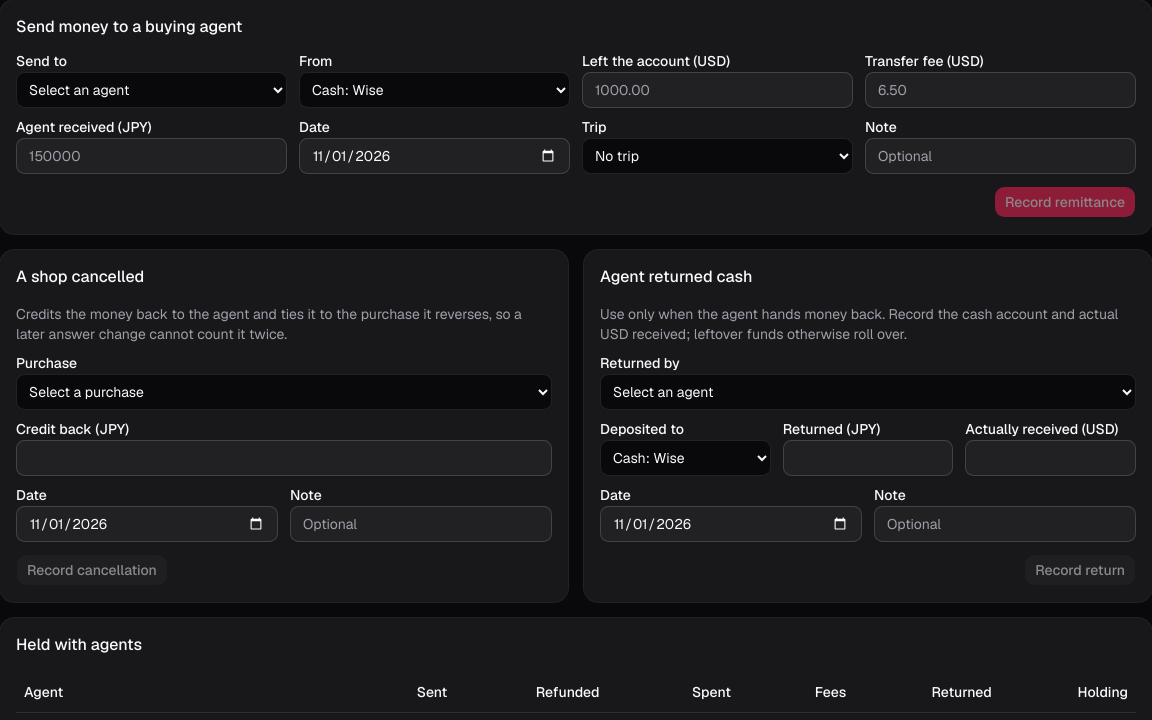
it: BuyerFloatView › derives the rate from what left and what arrived
Select "agent@example.com" in the dropdown labelled "Send to" at [152, 90], box [16,72,287,108]
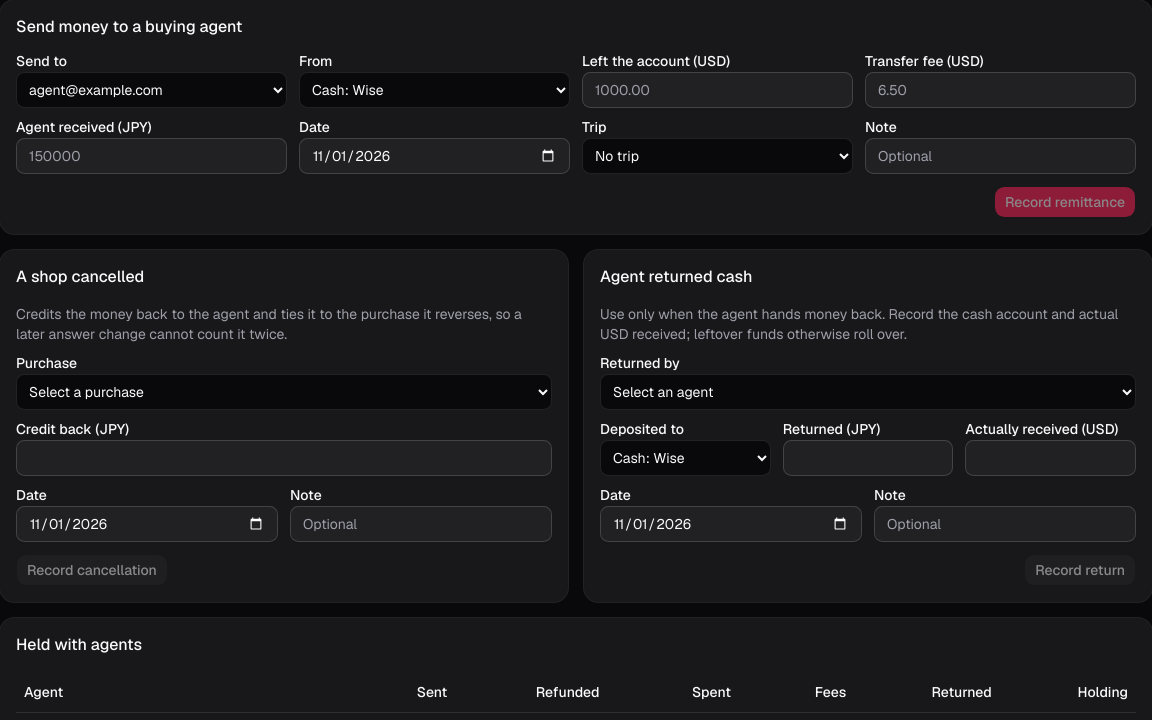
Type "1000" into the field labelled "Left the account (USD)" at [718, 90], box [582,72,853,108]
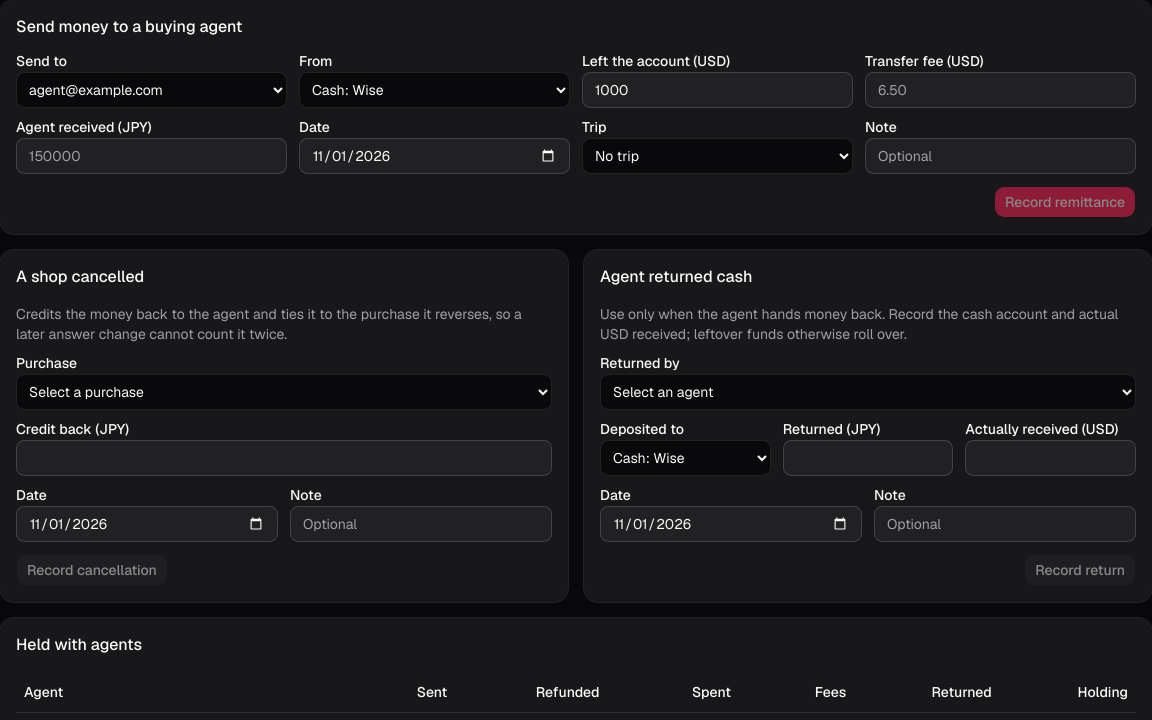
Type "6.5" into the field labelled "Transfer fee (USD)" at [1000, 90], box [865,72,1136,108]
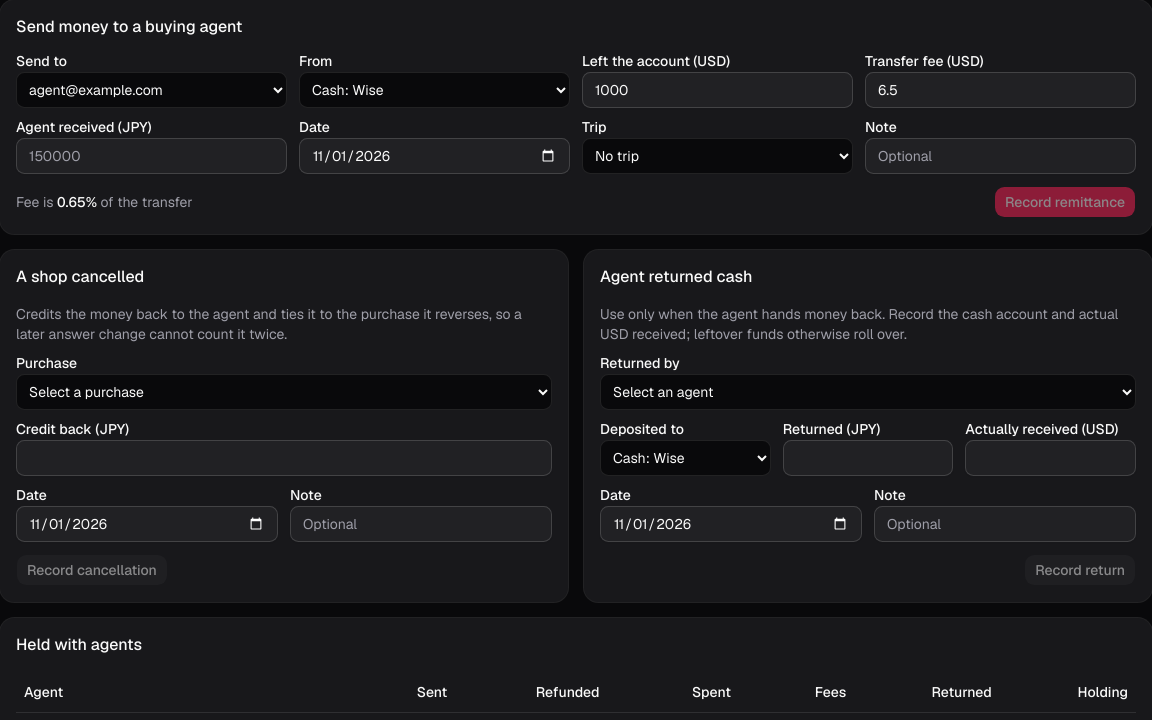
Type "146000" into the field labelled "Agent received (JPY)" at [152, 156], box [16,138,287,174]
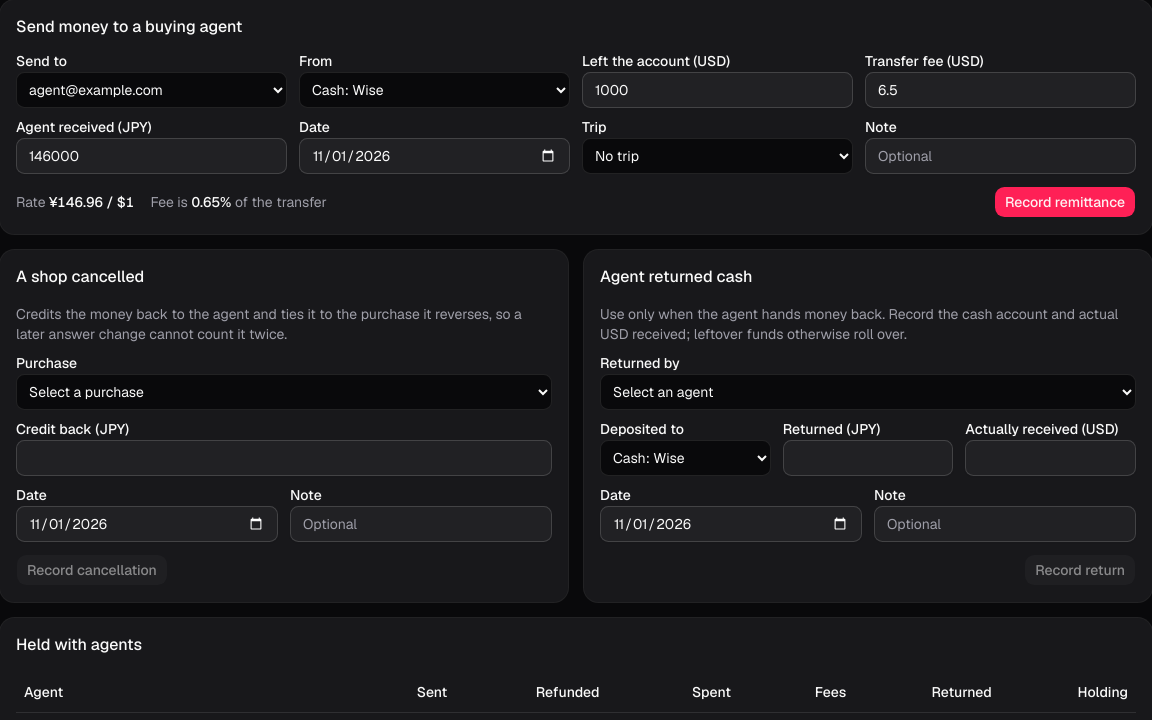
Result: the text "¥146.96 / $1" is shown at [49,193,134,211]
